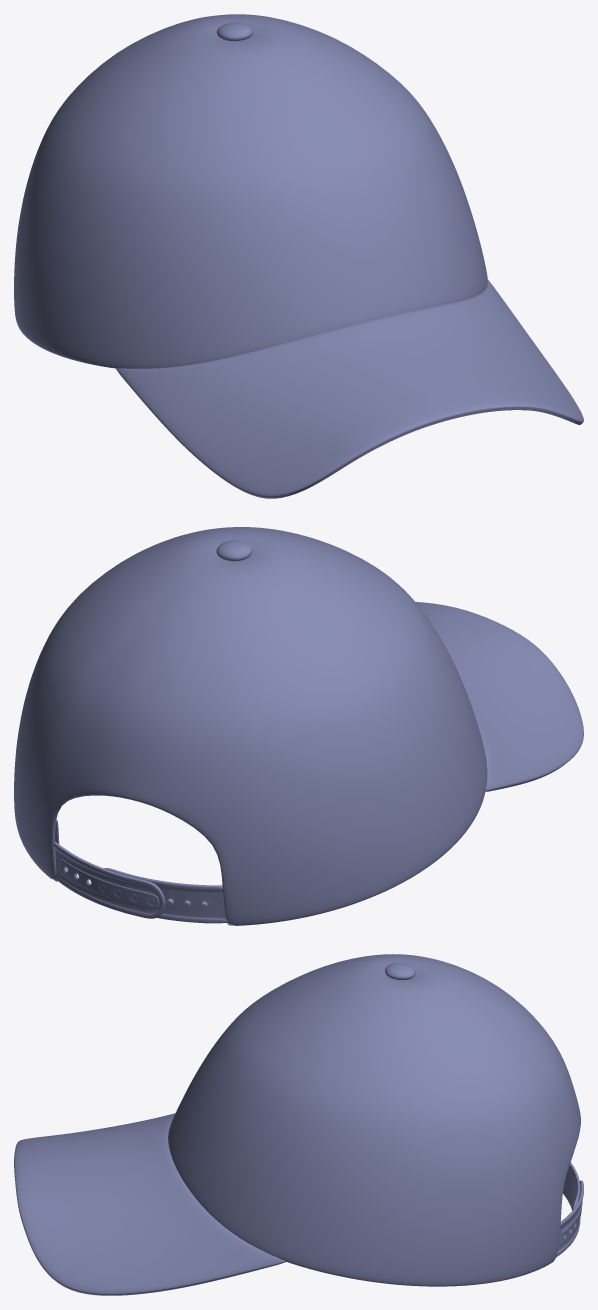
The model's file is 1761673292057-lugaFata.glb.
3 views of the same model, one above another, from view 1: azimuth 30°, elevation 25°; view 2: azimuth 150°, elevation 25°; view 3: azimuth 270°, elevation 25° (orthographic). The views are drawn at different scales.
Visible parts, largest first — view 1: baseballCap_3, baseballCap_1; view 2: baseballCap_3, baseballCap_1, plastic_1, plastic, baseballCap; view 3: baseballCap_3, baseballCap_1, plastic_1, plastic.
Boxes of the visible parts, x1,y1,x2,y2 form: baseballCap_3: [14, 14, 487, 368]; baseballCap_1: [116, 279, 583, 498]; baseballCap_3: [14, 527, 487, 925]; baseballCap_1: [415, 602, 583, 791]; plastic_1: [54, 841, 165, 918]; plastic: [99, 868, 227, 923]; baseballCap: [216, 540, 252, 561]; baseballCap_3: [168, 954, 580, 1286]; baseballCap_1: [14, 1113, 285, 1295]; plastic_1: [556, 1180, 583, 1256]; plastic: [563, 1162, 581, 1220].
Size of the model in its own units: 19.08 by 13.3 by 26.52.
